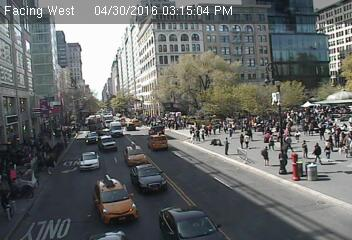neg: (315, 175, 350, 222), (3, 70, 38, 117), (145, 131, 176, 171), (58, 170, 83, 203), (119, 127, 135, 148), (70, 18, 80, 31), (72, 46, 77, 53), (86, 102, 90, 108)
